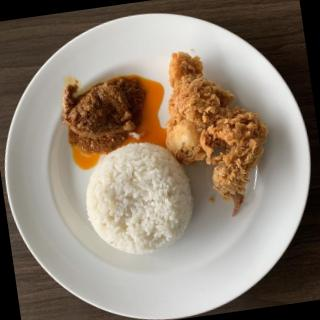Nasi: (81, 138, 202, 263)
